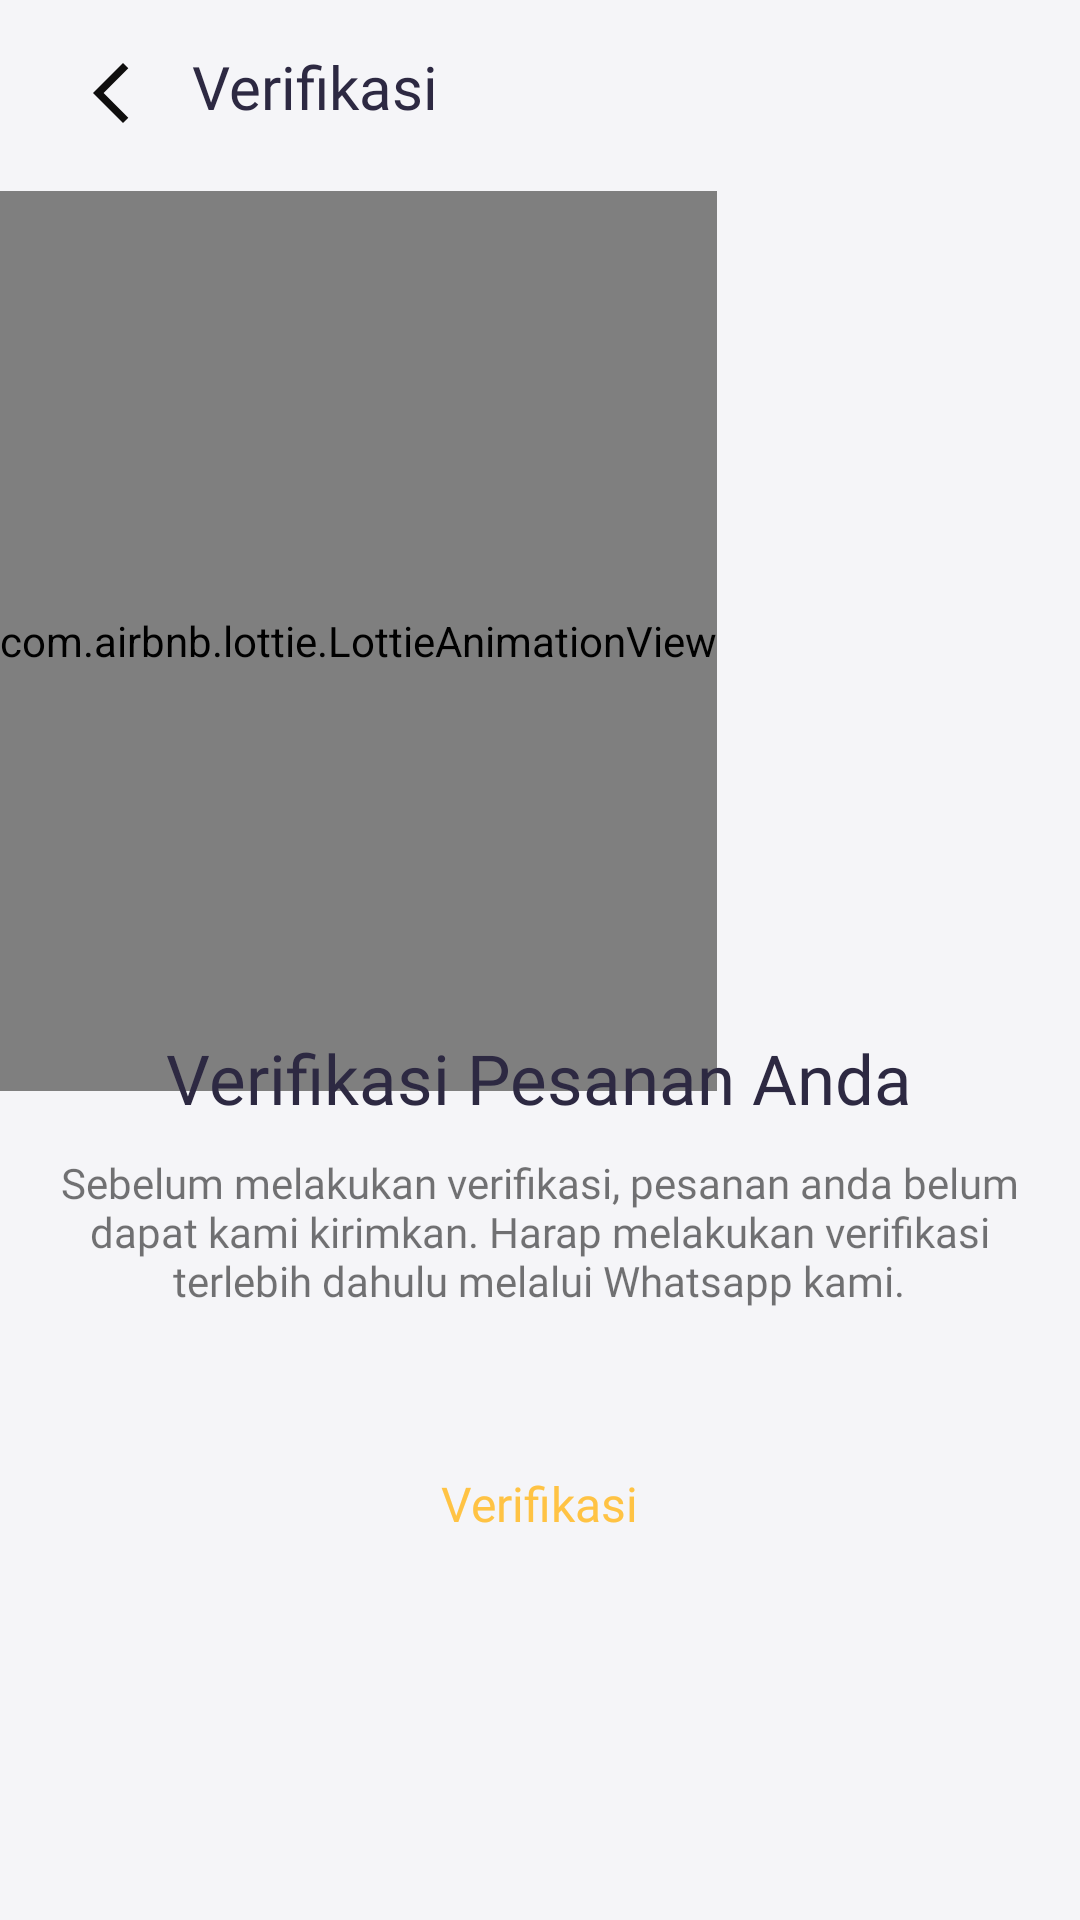

Icons on this 1080w x 1920h Android screen, each with the point to tap as point (x, y):
back: point (110, 93)
